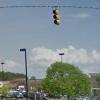Traffic light: (46, 4, 72, 31)
